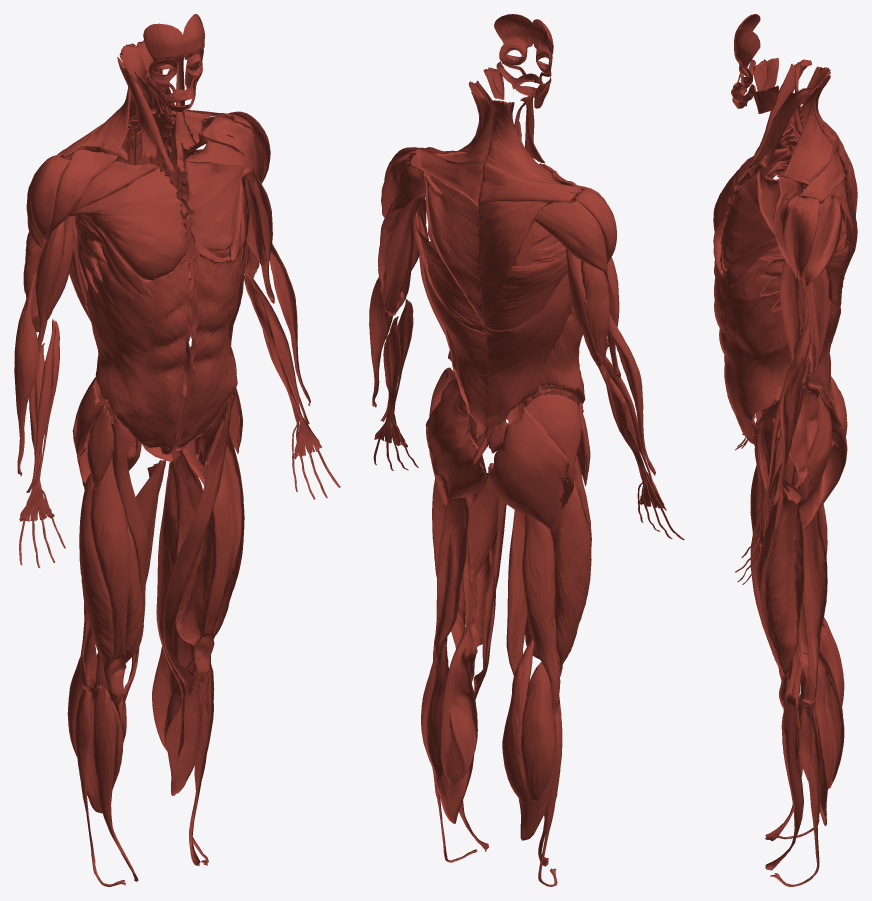
The model's file is muscle-model-mobile.glb.
3 views of the same model, side by side, from view 1: azimuth 30°, elevation 25°; view 2: azimuth 150°, elevation 25°; view 3: azimuth 270°, elevation 25° (orthographic). The views are drawn at different scales.
Visible parts, largest first — view 1: muscle__external-oblique__group, muscle__pectoralis__group, muscle__rectus-femoris__group, muscle__deltoid__group, muscle__sartorius__group, muscle__biceps__group, muscle__tibialis-anterior__group, muscle__vastus-medialis__group, muscle__soleus__group, muscle__brachioradialis__group, muscle__vastus-lateralis__group, muscle__gastrocnemius__group (+20 smaller); view 2: muscle__trapezius__group, muscle__latissimus__group, muscle__gastrocnemius__group, muscle__gluteus-maximus__group, muscle__biceps-femoris__group, muscle__deltoid__group, muscle__triceps__group, muscle__vastus-lateralis__group, muscle__flexor-digitorum__group, muscle__gracilis__group, muscle__gluteus-medius__group, muscle__brachioradialis__group (+17 smaller); view 3: muscle__external-oblique__group, muscle__pectoralis__group, muscle__vastus-lateralis__group, muscle__deltoid__group, muscle__trapezius__group, muscle__biceps-femoris__group, muscle__gluteus-maximus__group, muscle__gastrocnemius__group, muscle__tibialis-anterior__group, muscle__latissimus__group, muscle__brachioradialis__group, muscle__sternocleidomastoid__group (+15 smaller).
Boxes of the visible parts, x1=… form: muscle__external-oblique__group: x1=86, y1=240, x2=245, y2=449; muscle__pectoralis__group: x1=68, y1=138, x2=254, y2=295; muscle__rectus-femoris__group: x1=90, y1=412, x2=244, y2=705; muscle__deltoid__group: x1=26, y1=111, x2=270, y2=248; muscle__sartorius__group: x1=110, y1=389, x2=235, y2=711; muscle__biceps__group: x1=36, y1=125, x2=274, y2=351; muscle__tibialis-anterior__group: x1=93, y1=659, x2=213, y2=881; muscle__vastus-medialis__group: x1=125, y1=508, x2=216, y2=670; muscle__soleus__group: x1=78, y1=656, x2=200, y2=813; muscle__brachioradialis__group: x1=14, y1=244, x2=310, y2=476; muscle__vastus-lateralis__group: x1=79, y1=473, x2=244, y2=697; muscle__gastrocnemius__group: x1=67, y1=622, x2=194, y2=756; muscle__trapezius__group: x1=410, y1=93, x2=580, y2=330; muscle__latissimus__group: x1=413, y1=201, x2=572, y2=428; muscle__gastrocnemius__group: x1=421, y1=624, x2=555, y2=803; muscle__gluteus-maximus__group: x1=425, y1=390, x2=569, y2=533; muscle__biceps-femoris__group: x1=433, y1=484, x2=560, y2=706; muscle__deltoid__group: x1=381, y1=147, x2=616, y2=275; muscle__triceps__group: x1=378, y1=196, x2=609, y2=366; muscle__vastus-lateralis__group: x1=432, y1=478, x2=591, y2=672; muscle__flexor-digitorum__group: x1=373, y1=316, x2=684, y2=540; muscle__gracilis__group: x1=475, y1=498, x2=525, y2=699; muscle__gluteus-medius__group: x1=429, y1=367, x2=581, y2=483; muscle__brachioradialis__group: x1=369, y1=277, x2=655, y2=475; muscle__external-oblique__group: x1=714, y1=259, x2=809, y2=443; muscle__pectoralis__group: x1=713, y1=142, x2=789, y2=292; muscle__vastus-lateralis__group: x1=760, y1=456, x2=804, y2=702; muscle__deltoid__group: x1=773, y1=115, x2=842, y2=289; muscle__trapezius__group: x1=784, y1=67, x2=857, y2=270; muscle__biceps-femoris__group: x1=794, y1=476, x2=827, y2=704; muscle__gluteus-maximus__group: x1=793, y1=376, x2=847, y2=540; muscle__gastrocnemius__group: x1=800, y1=617, x2=844, y2=788; muscle__tibialis-anterior__group: x1=765, y1=678, x2=803, y2=870; muscle__latissimus__group: x1=798, y1=211, x2=851, y2=403; muscle__brachioradialis__group: x1=772, y1=312, x2=810, y2=506; muscle__sternocleidomastoid__group: x1=748, y1=59, x2=811, y2=175.
Size of the model in its own units: 63.34 by 165 by 25.64.
